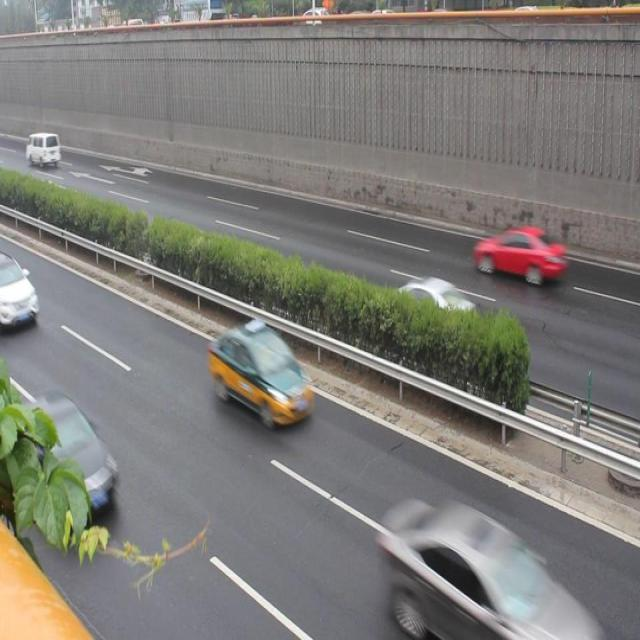car: (371, 484, 587, 640), (24, 387, 131, 524), (205, 320, 323, 434), (468, 222, 564, 295), (383, 271, 474, 341), (1, 254, 42, 335)
